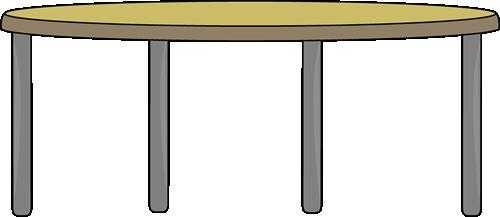obstacle: (1, 2, 498, 215)
